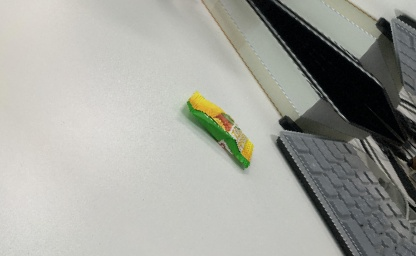jeli: (175, 84, 267, 176)
